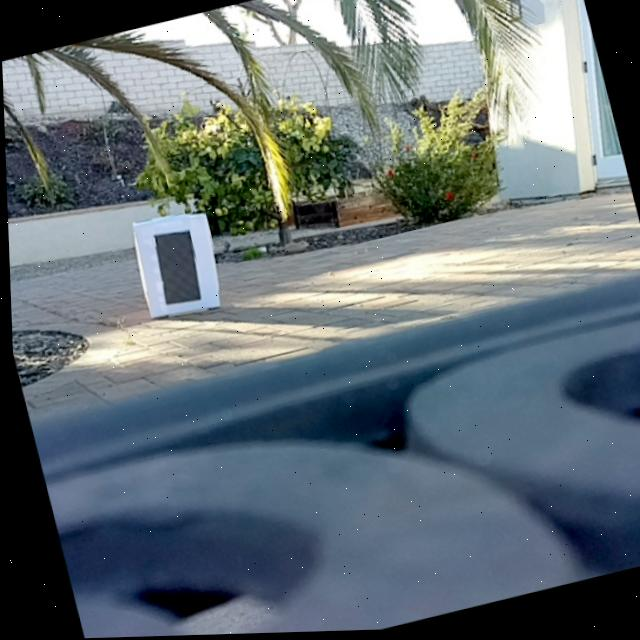led: (147, 228, 205, 308)
